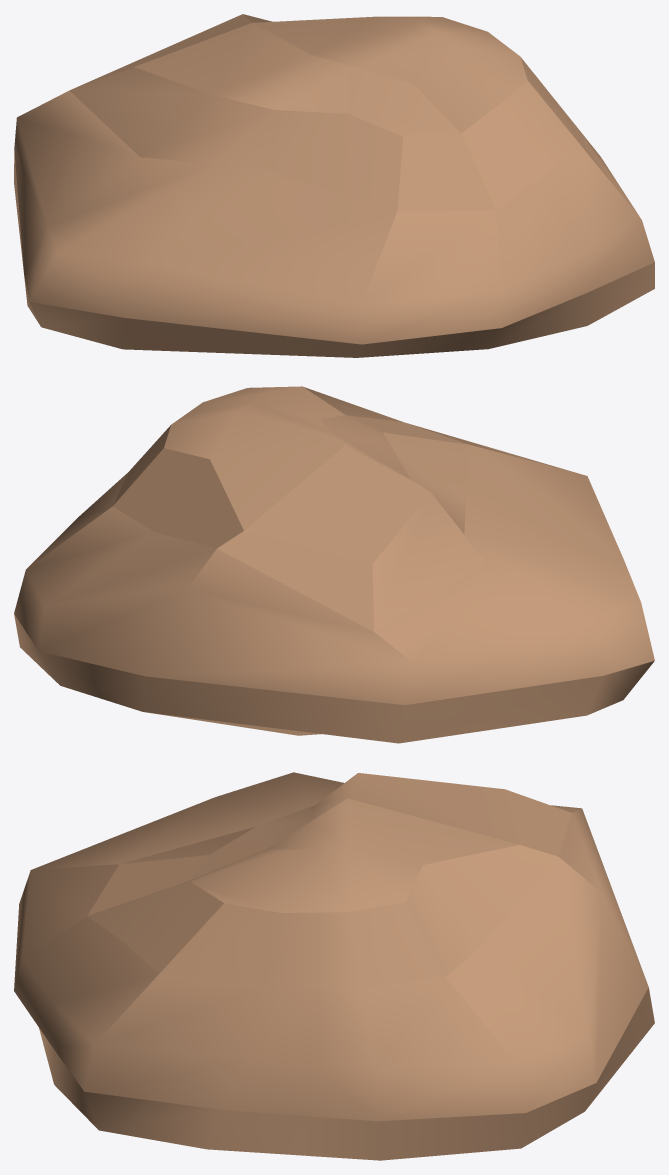
File: Rock6Clean.fbx
3 views of the same model, one above another, from view 1: azimuth 30°, elevation 25°; view 2: azimuth 150°, elevation 25°; view 3: azimuth 270°, elevation 25° (orthographic). The views are drawn at different scales.
Visible parts, largest first — view 1: pCube6; view 2: pCube6; view 3: pCube6.
Boxes of the visible parts, <box> form: pCube6: <box>14,14,654,357</box>; pCube6: <box>14,386,654,743</box>; pCube6: <box>14,772,654,1160</box>.
Bounding box in the file's own units: 0.8362 × 0.3467 × 0.7627.
